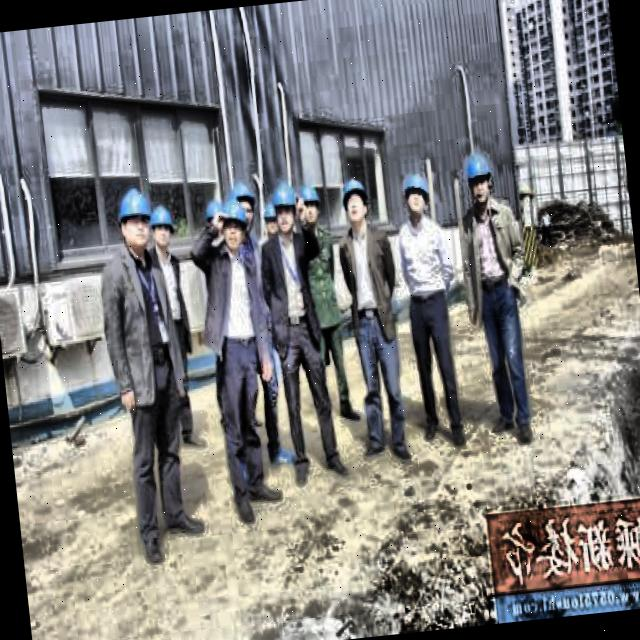helmet: (110, 176, 158, 258), (390, 168, 434, 226), (459, 146, 497, 211), (270, 174, 304, 238), (334, 172, 370, 230), (228, 175, 260, 238), (148, 202, 178, 260), (217, 198, 248, 252), (198, 190, 228, 242), (296, 178, 324, 230), (256, 200, 281, 242)
